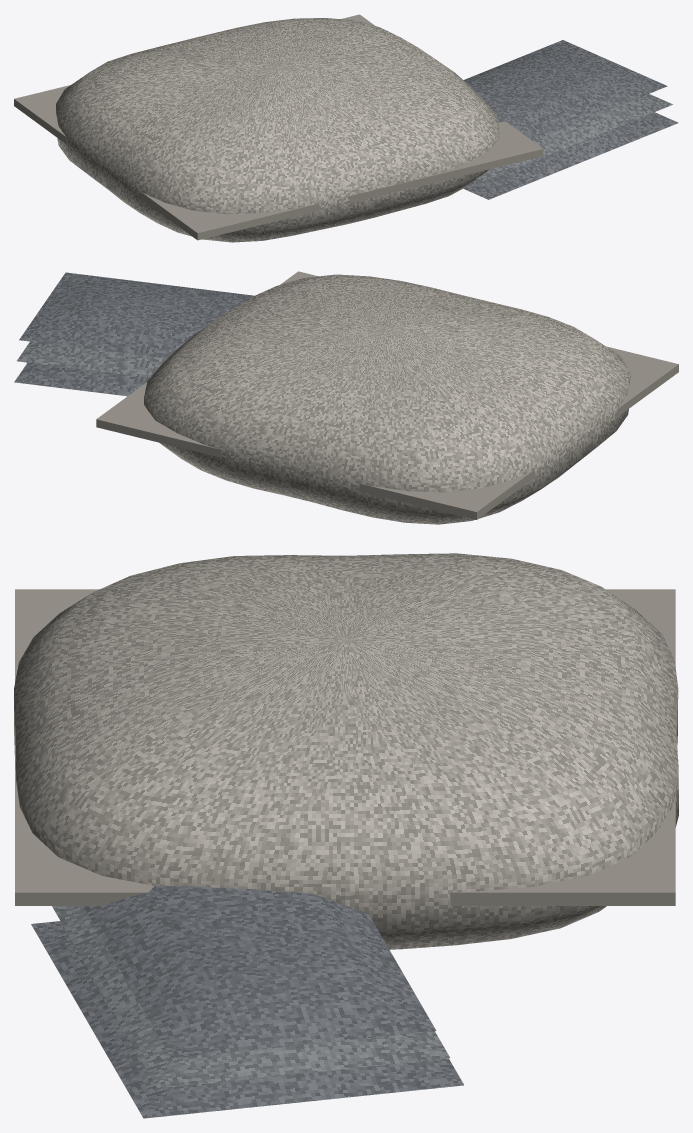
File: cushions5.glb
The picture shows the model from 3 angles, top to bottom: view 1: azimuth 30°, elevation 25°; view 2: azimuth 150°, elevation 25°; view 3: azimuth 270°, elevation 25°; orthographic projection. The views are drawn at different scales.
Parts seen in each view (by area): view 1: root; view 2: root; view 3: root.
Boxes of the visible parts, left/top/right/bottom form: root: left=14, top=14, right=678, bottom=242; root: left=14, top=271, right=678, bottom=524; root: left=14, top=553, right=678, bottom=1118.
Bounding box in the file's own units: 1.14 × 0.2634 × 0.7056.
Materials: 4 (3 with a texture image).
